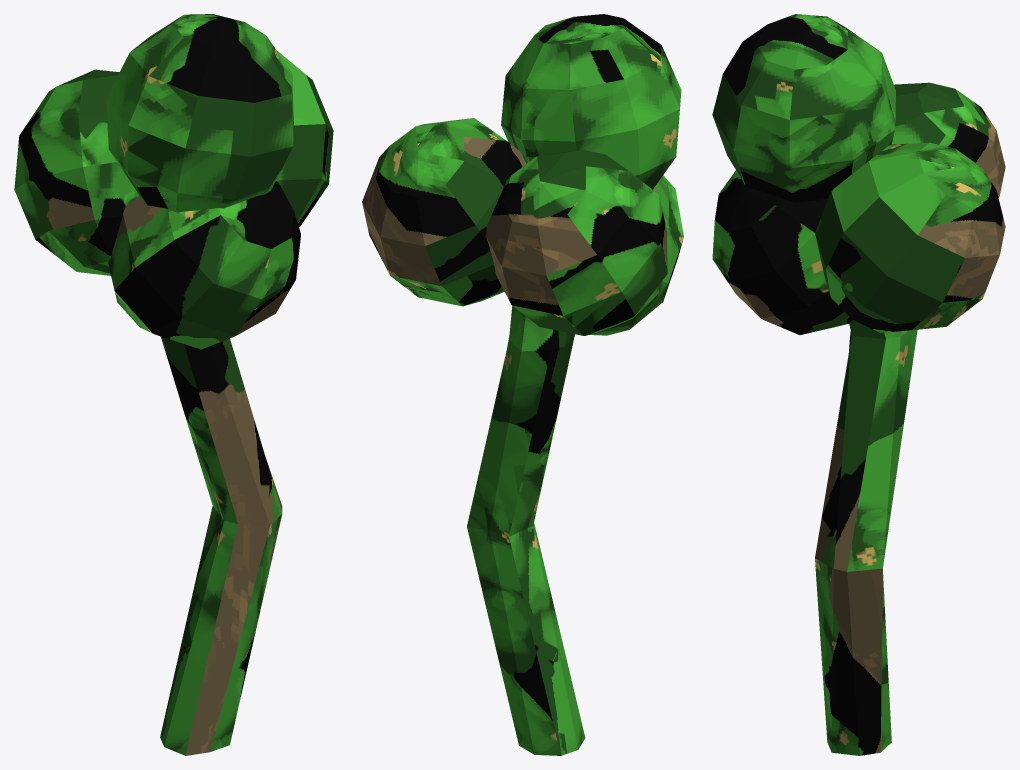
File: small_tree.glb
3 views of the same model, side by side, from view 1: azimuth 30°, elevation 25°; view 2: azimuth 150°, elevation 25°; view 3: azimuth 270°, elevation 25° (orthographic). The views are drawn at different scales.
Parts seen in each view (by area): view 1: Sphere.006; view 2: Sphere.006; view 3: Sphere.006.
Boxes of the visible parts, left/top/right/bottom form: Sphere.006: left=14, top=14, right=333, bottom=755; Sphere.006: left=362, top=14, right=683, bottom=755; Sphere.006: left=712, top=14, right=1005, bottom=755.
Size of the model in its own units: 0.1974 by 0.4753 by 0.1775.
1 material, 1 textured.
